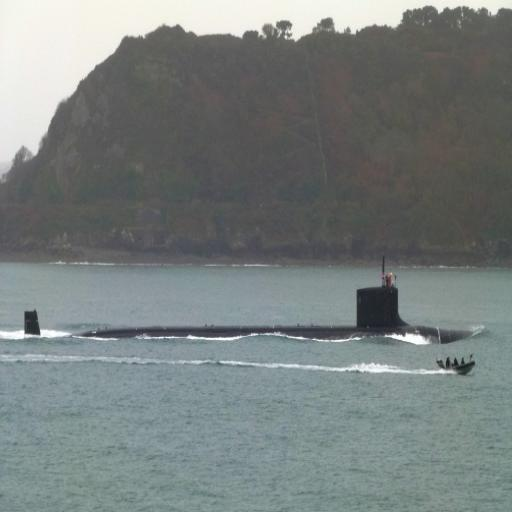submarine: (21, 283, 488, 346)
